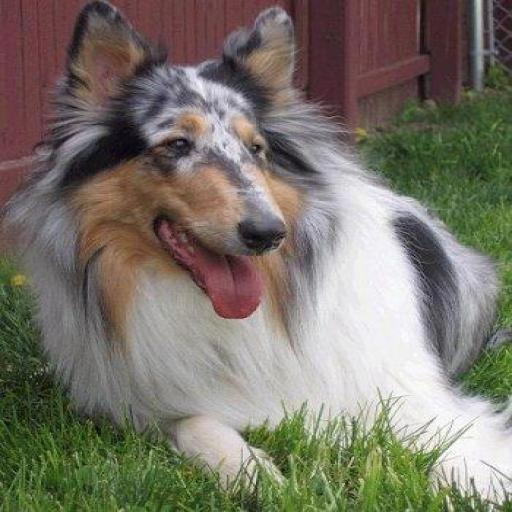dog_face: (62, 4, 305, 306)
